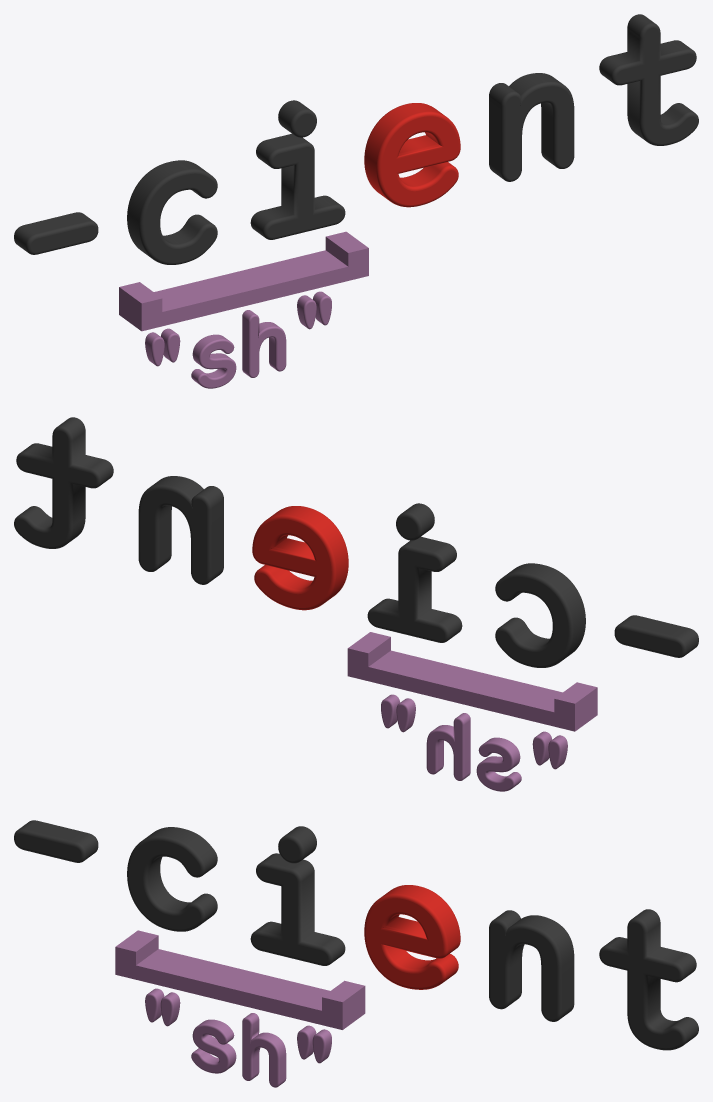
The model's file is -cient.gltf.
3 renders of one model, top to bottom at view 1: azimuth 30°, elevation 25°; view 2: azimuth 150°, elevation 25°; view 3: azimuth 330°, elevation 25°, orthographic.
Parts seen in each view (by area): view 1: Cube.000, Text.005, Text.003, Text.004, Text.002, Text, Text.001; view 2: Cube.000, Text.005, Text.003, Text.004, Text.002, Text, Text.001; view 3: Cube.000, Text.005, Text.003, Text.004, Text.002, Text, Text.001.
Part boxes in pixels (left/top/right/bottom): Cube.000: left=119, top=231, right=368, bottom=331; Text.005: left=14, top=160, right=217, bottom=264; Text.003: left=364, top=103, right=460, bottom=207; Text.004: left=599, top=14, right=698, bottom=145; Text.002: left=489, top=73, right=574, bottom=181; Text: left=250, top=100, right=345, bottom=239; Text.001: left=145, top=291, right=331, bottom=388; Cube.000: left=347, top=632, right=597, bottom=731; Text.005: left=495, top=563, right=698, bottom=667; Text.003: left=252, top=506, right=348, bottom=610; Text.004: left=14, top=417, right=113, bottom=548; Text.002: left=138, top=476, right=223, bottom=584; Text: left=367, top=503, right=462, bottom=642; Text.001: left=381, top=694, right=567, bottom=791; Cube.000: left=115, top=930, right=365, bottom=1029; Text.005: left=14, top=820, right=217, bottom=931; Text.003: left=364, top=885, right=460, bottom=989; Text.004: left=599, top=909, right=698, bottom=1050; Text.002: left=489, top=910, right=574, bottom=1021; Text: left=250, top=826, right=345, bottom=965; Text.001: left=145, top=988, right=331, bottom=1087.
Size of the model in its own units: 3.29 by 1.22 by 0.1906.
